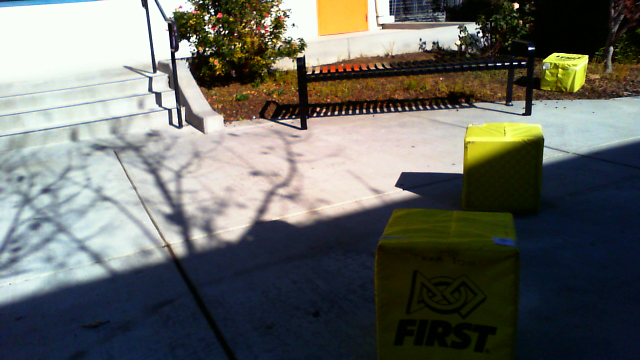cube: (374, 208, 520, 360), (462, 123, 544, 216), (541, 52, 588, 93)
